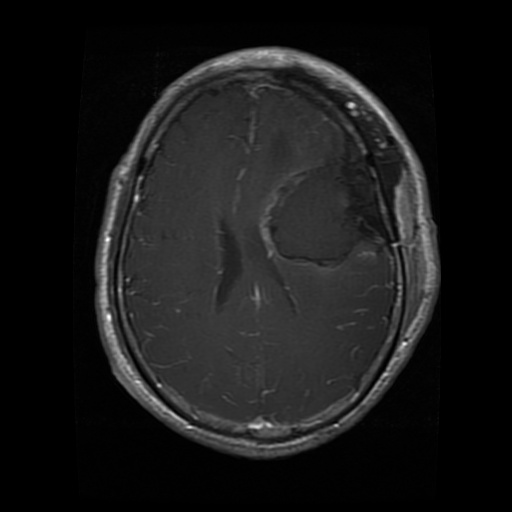glioma: (261, 141, 385, 268)
